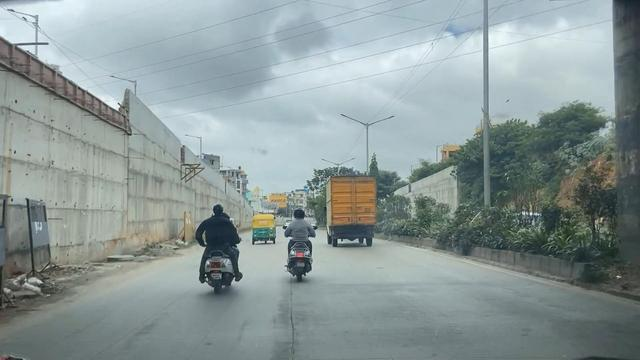HMV: (321, 166, 383, 260)
UnsurfacedRoad: (30, 250, 134, 305)
